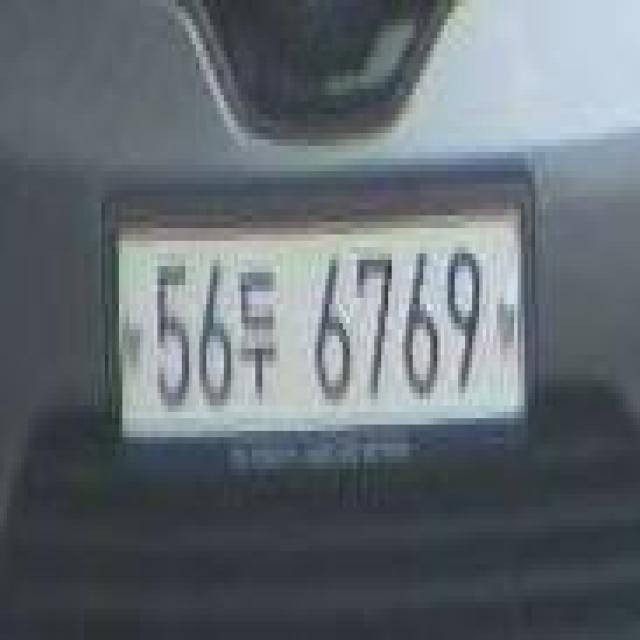illegal_plate: (108, 192, 534, 486)
